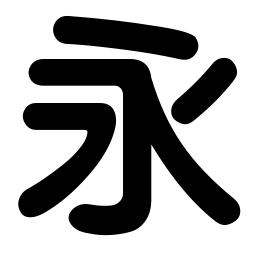D: (52, 11, 131, 48)
HSZ: (112, 55, 153, 95)
Hs: (26, 57, 95, 88)
Ne: (211, 193, 243, 228)
PNc: (151, 102, 202, 148)
PZe: (16, 183, 49, 219)
Ps: (207, 55, 239, 90)
SG: (66, 199, 155, 237)
Sm: (121, 158, 153, 181)
TPZ: (75, 101, 117, 156)
Ts: (21, 101, 55, 133)
